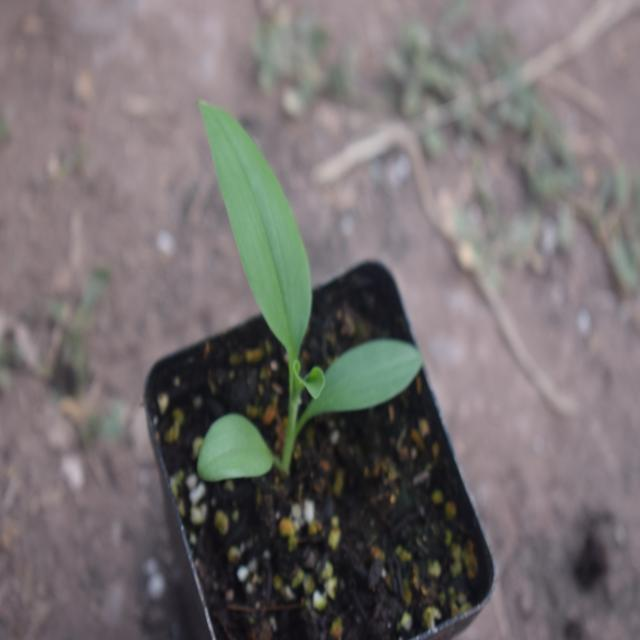Common Dayflower: (184, 87, 403, 528)
